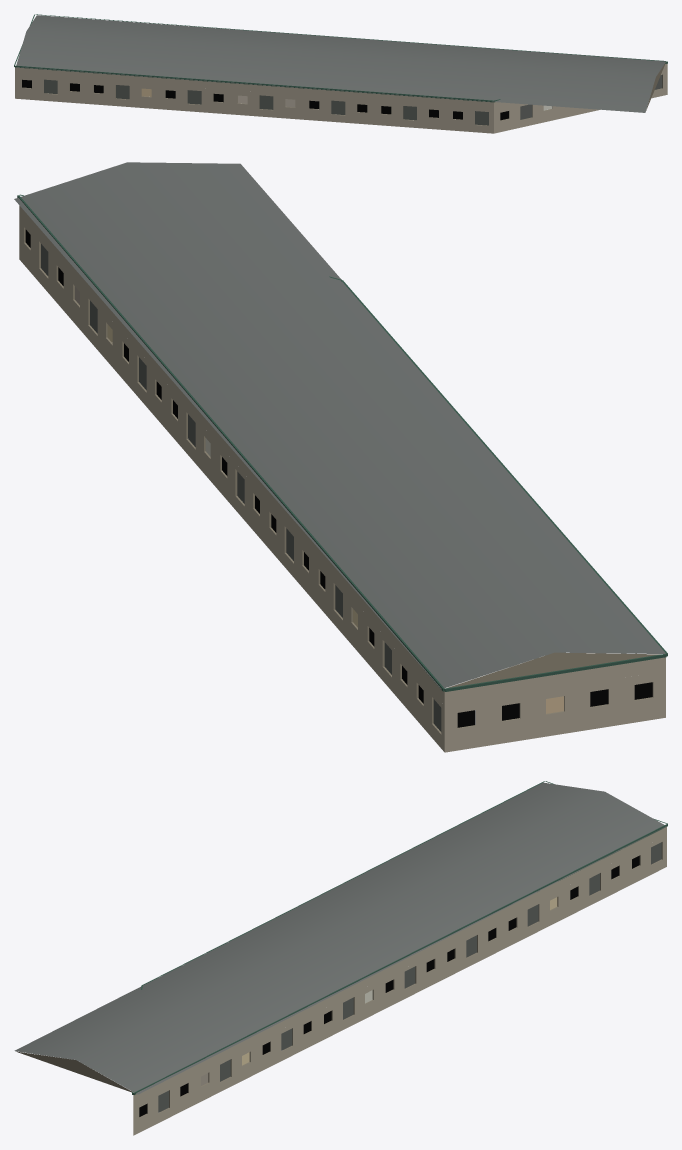
The model's file is pier45_lod1.glb.
3 renders of one model, top to bottom at view 1: azimuth 30°, elevation 25°; view 2: azimuth 150°, elevation 25°; view 3: azimuth 270°, elevation 25°, orthographic. The views are drawn at different scales.
Parts seen in each view (by area): view 1: L1_roof, L1_stucco, L1_paint, L1_metal, L1_win; view 2: L1_roof, L1_stucco, L1_paint, L1_win, L1_metal; view 3: L1_roof, L1_stucco, L1_paint, L1_metal, L1_win.
Part boxes in pixels (bbox=[...]): L1_roof: bbox=[16, 15, 665, 112]; L1_stucco: bbox=[15, 63, 667, 133]; L1_paint: bbox=[14, 14, 667, 102]; L1_metal: bbox=[44, 75, 662, 125]; L1_win: bbox=[22, 79, 552, 120]; L1_roof: bbox=[14, 162, 665, 689]; L1_stucco: bbox=[19, 205, 665, 752]; L1_paint: bbox=[17, 194, 667, 691]; L1_win: bbox=[25, 229, 652, 727]; L1_metal: bbox=[41, 244, 441, 731]; L1_roof: bbox=[14, 782, 666, 1094]; L1_stucco: bbox=[16, 827, 666, 1135]; L1_paint: bbox=[132, 781, 667, 1094]; L1_metal: bbox=[158, 842, 661, 1112]; L1_win: bbox=[139, 855, 639, 1116].
Bounding box in the file's own units: 178 × 14.5 × 158.
